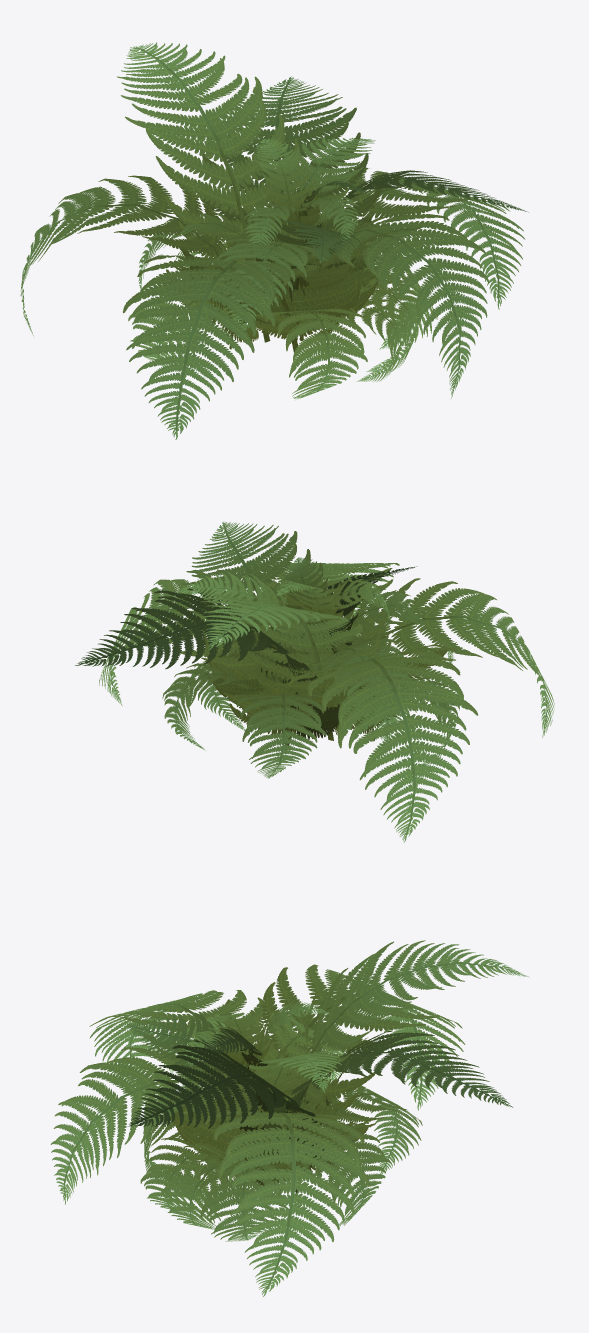
The model's file is kt_ti_large_fern.fbx.
The picture shows the model from 3 angles, top to bottom: view 1: azimuth 30°, elevation 25°; view 2: azimuth 150°, elevation 25°; view 3: azimuth 270°, elevation 25°; orthographic projection. The views are drawn at different scales.
Parts seen in each view (by area): view 1: polySurface45; view 2: polySurface45; view 3: polySurface45.
Part boxes in pixels (x1,y1,x2,y2): polySurface45: [20, 42, 528, 439]; polySurface45: [75, 521, 554, 842]; polySurface45: [50, 940, 529, 1296].
Size of the model in its own units: 135 by 68.14 by 138.
1 material, 1 textured.
